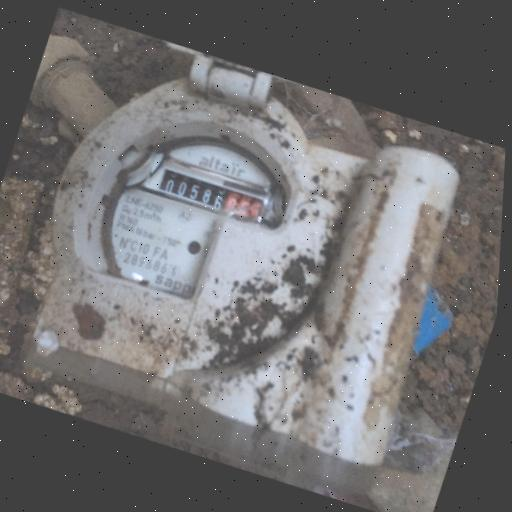0: (160, 169, 181, 196), (222, 189, 242, 217), (174, 174, 192, 199)
5: (233, 194, 253, 221), (185, 178, 203, 202)
6: (208, 184, 229, 213)
8: (196, 181, 217, 207)
border_water_meter_number: (152, 165, 277, 230)
